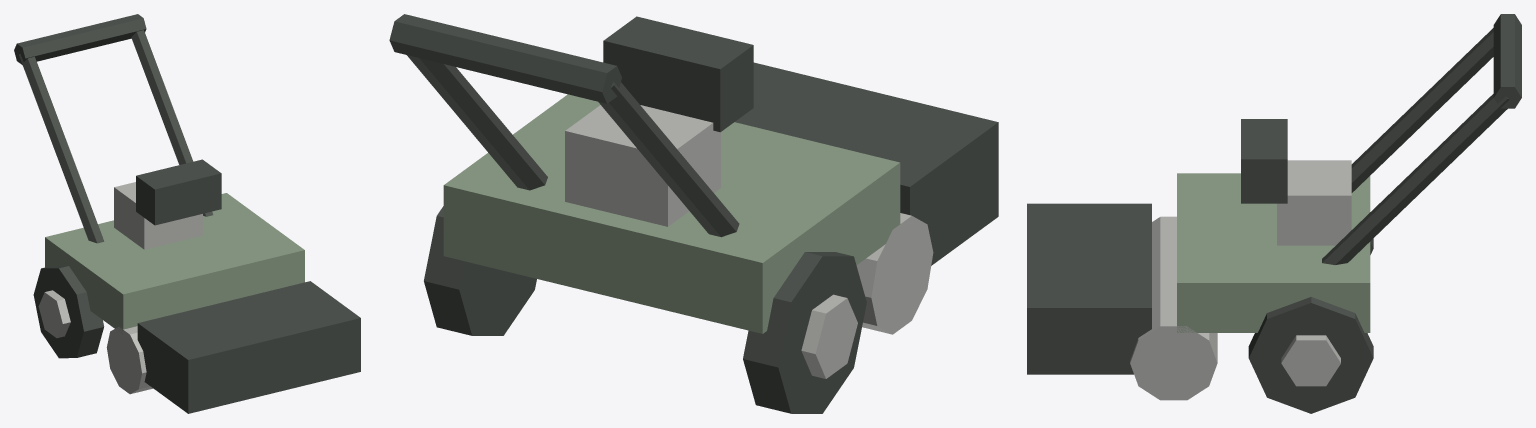
Rendered from green_mower_03.glb.
3 views of the same model, side by side, from view 1: azimuth 30°, elevation 25°; view 2: azimuth 150°, elevation 25°; view 3: azimuth 270°, elevation 25° (orthographic). The views are drawn at different scales.
Parts seen in each view (by area): view 1: Green_mower_03; view 2: Green_mower_03; view 3: Green_mower_03.
Part boxes in pixels (left/top/right/bottom): Green_mower_03: left=14, top=14, right=360, bottom=413; Green_mower_03: left=389, top=14, right=998, bottom=413; Green_mower_03: left=1027, top=14, right=1521, bottom=413.
Bounding box in the file's own units: 1.03 × 1.11 × 1.64.
